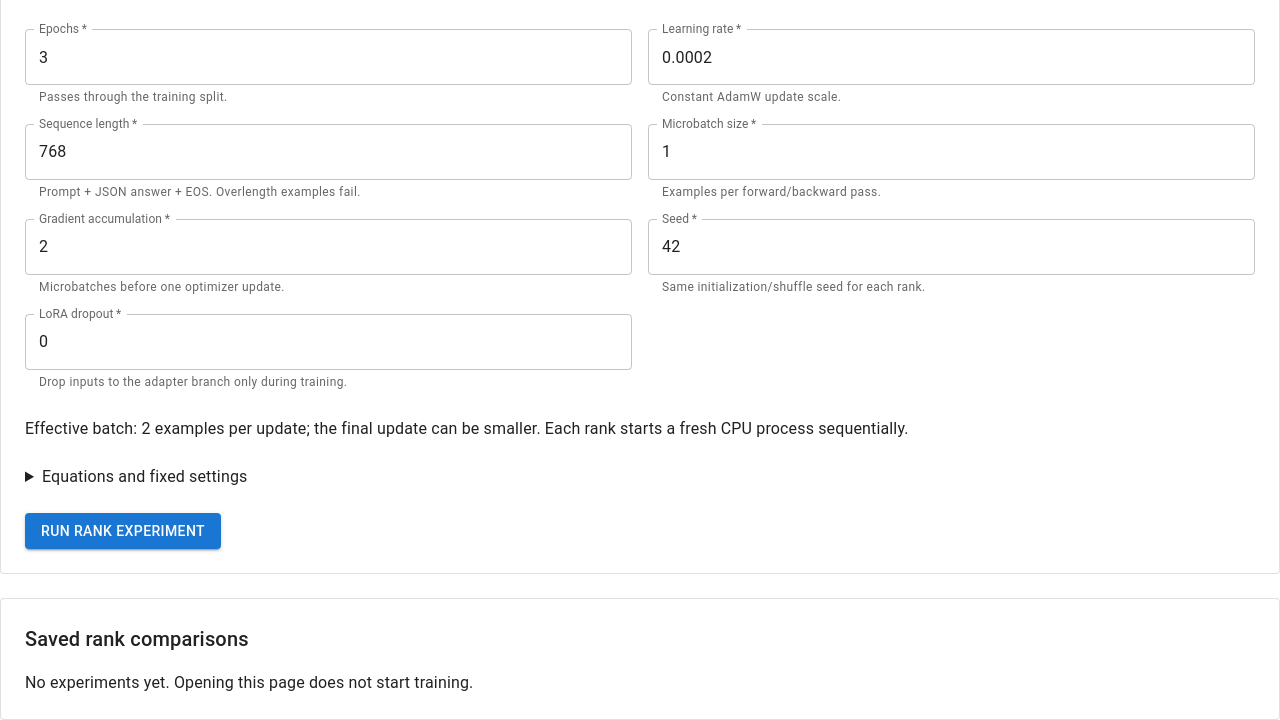
surfaces queue errors without pretending training started
(page scrolled)
Click the button "Run rank experiment".
click(123, 531)  # box [25,513,221,549]
(page scrolled)
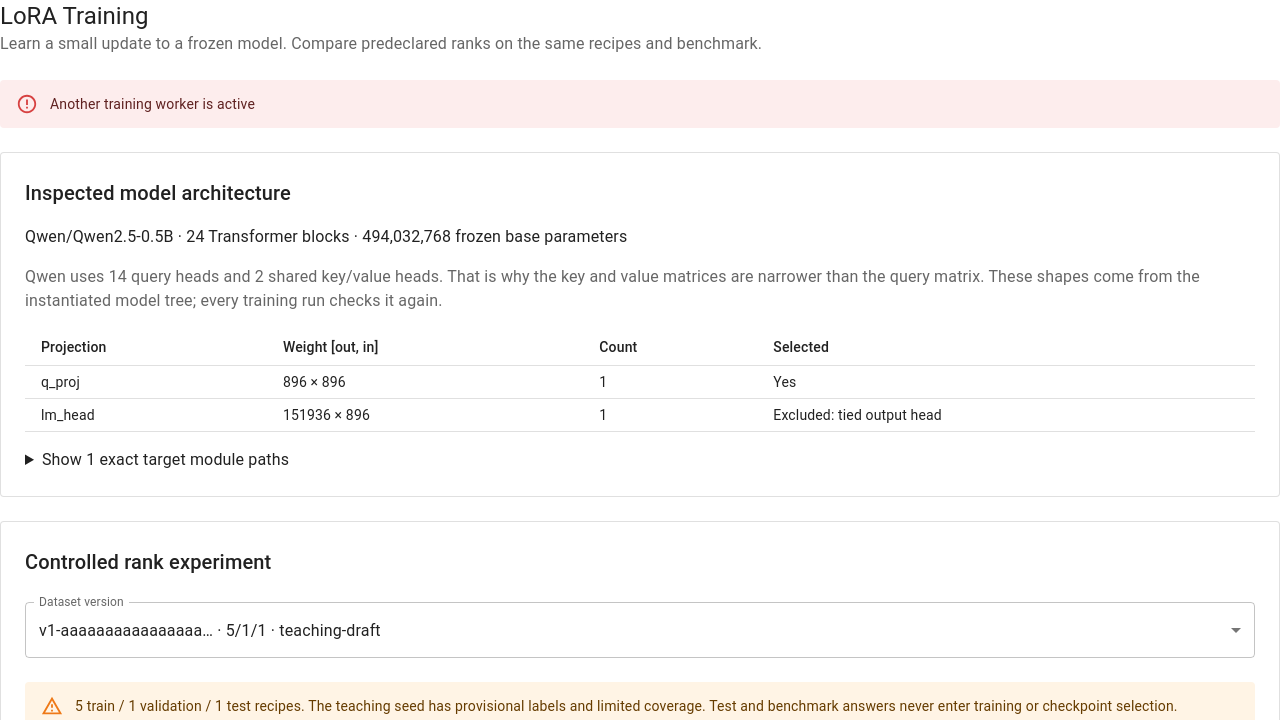
Result: the text "Another training worker is active" is shown at [50,96,255,112]
